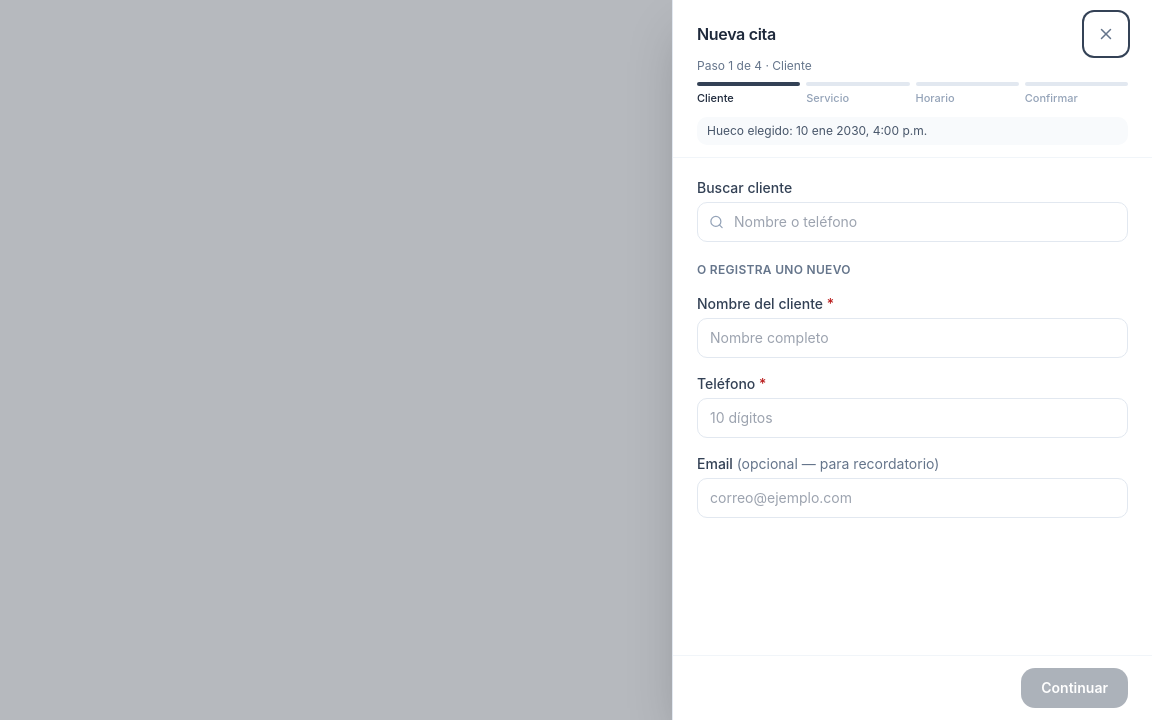
Test: NuevaCitaPanel — precarga desde un hueco (I1) › 'Ver todos los servicios' quita el filtro del empleado del hueco
Type "Luis Pérez" into the field labelled "Nombre del cliente *" at (912, 338), box [697,318,1128,358]
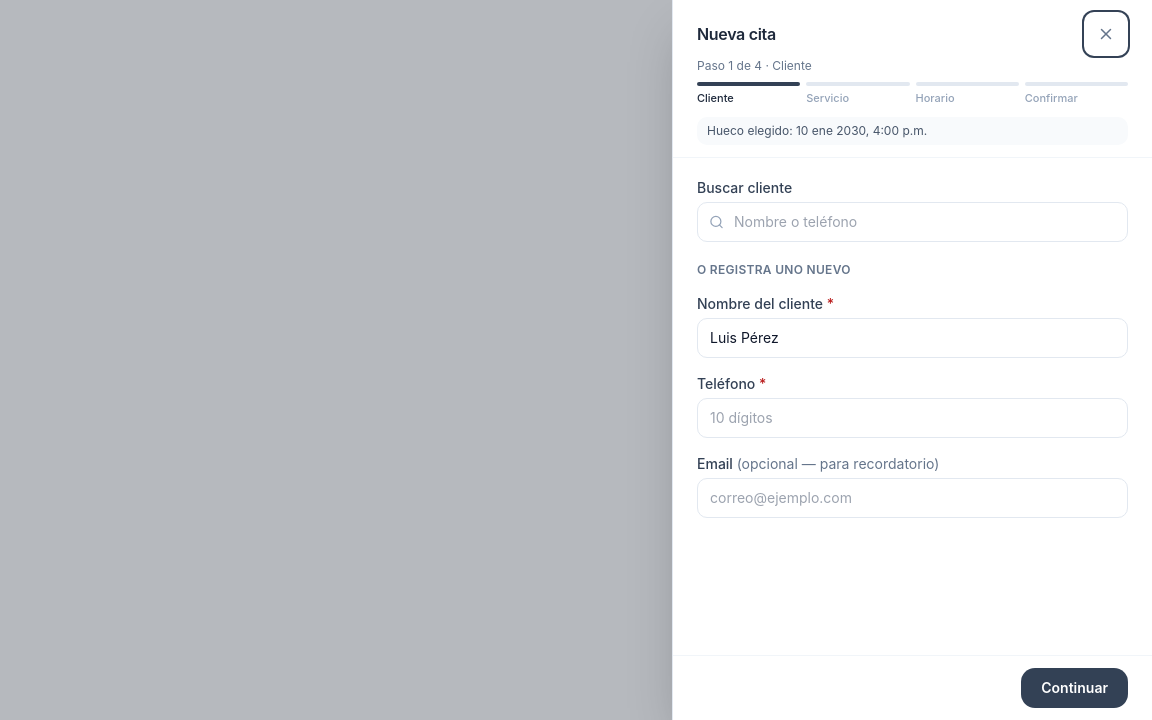
Type "5512345678" into the field labelled "Teléfono *" at (912, 418), box [697,398,1128,438]
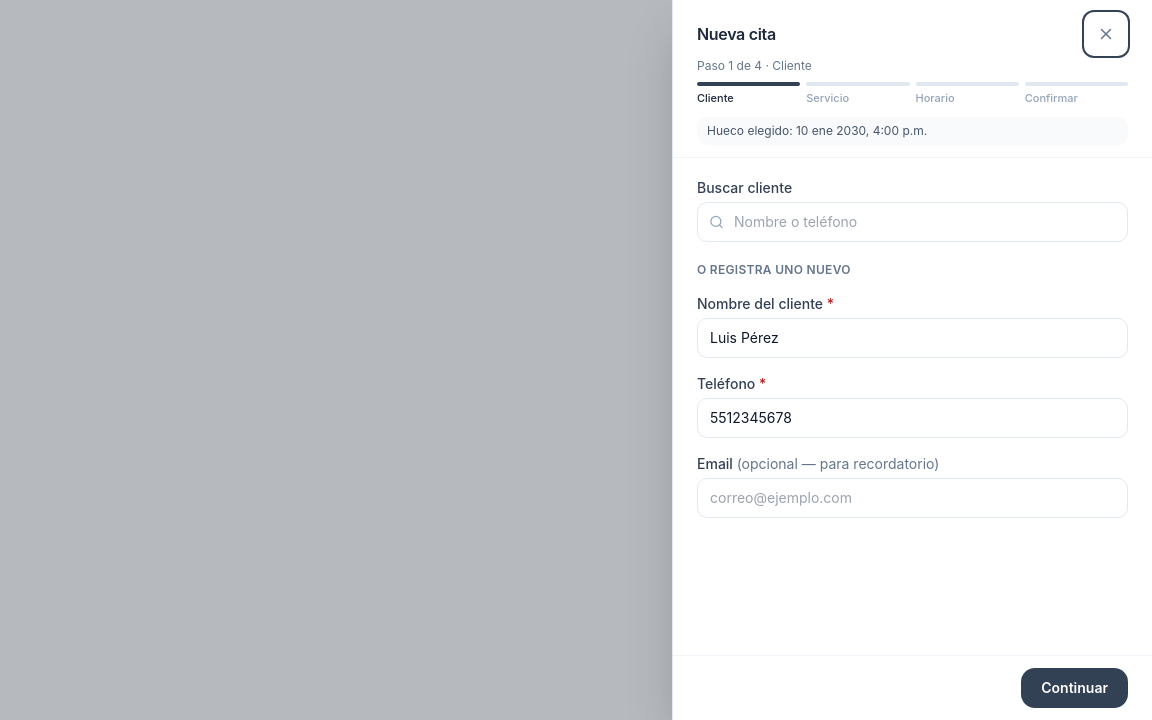
Click the button "Continuar" at (1075, 688), box [1021,668,1128,708]
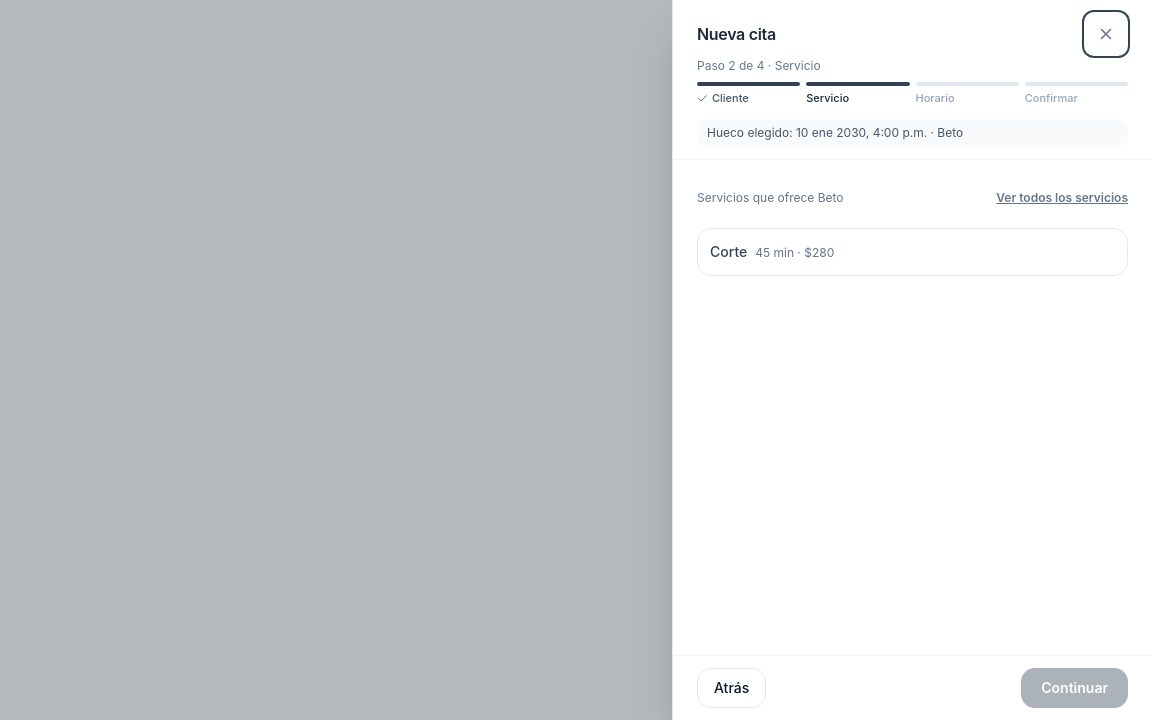
expect the button "Corte45 min · $280" is shown: met, box [697,228,1128,276]
Click the button "Ver todos los servicios" at (1062, 198), box [996,180,1128,216]
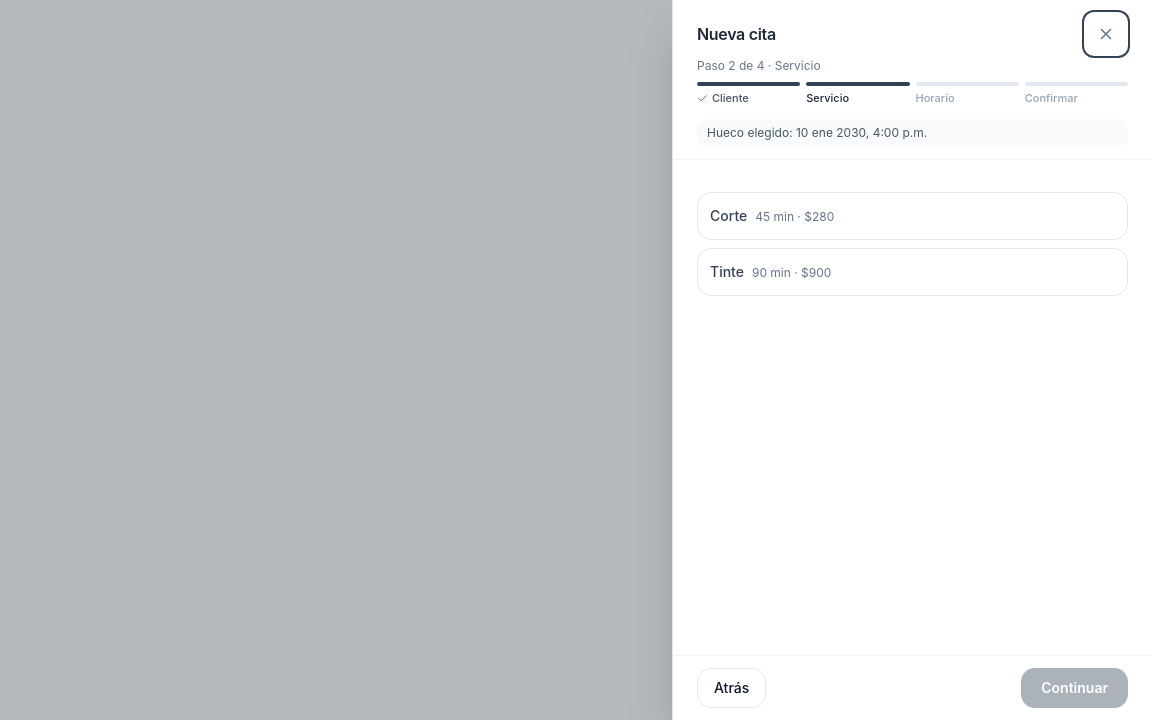
expect the button "Tinte90 min · $900" is shown: met, box [697,248,1128,296]
